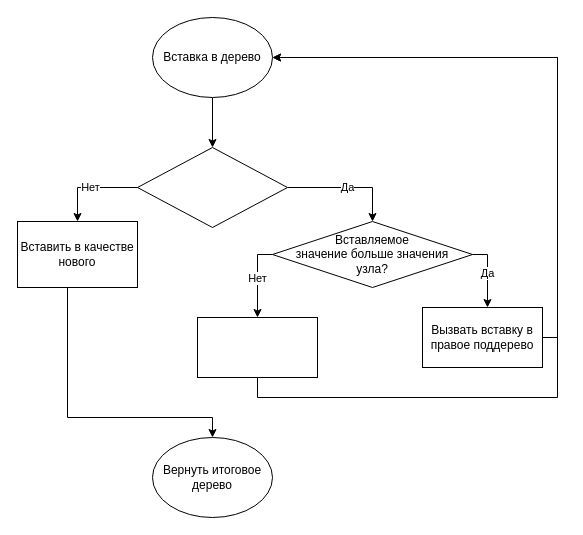
The diagram is 583 pixels wide and 535 high, and some of its shapes have lost their labels. Each missing label, with the box of its shape:
Вызвать вставку в левое поддерево: (196, 316, 318, 378)
Узел есть?: (136, 146, 288, 228)
